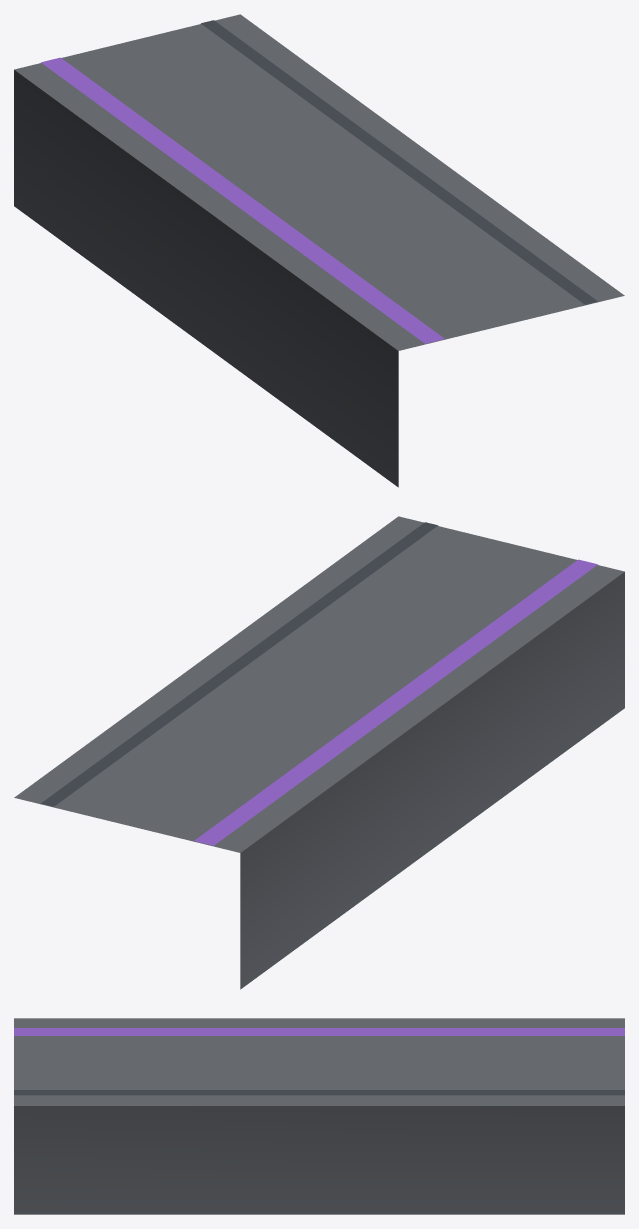
Rendered from junction_sill.glb.
3 renders of one model, top to bottom at view 1: azimuth 30°, elevation 25°; view 2: azimuth 150°, elevation 25°; view 3: azimuth 270°, elevation 25°, orthographic. The views are drawn at different scales.
Visible parts, largest first — view 1: Base; view 2: Base; view 3: Base.
Part boxes in pixels (x1,y1,x2,y2): Base: (14, 14, 624, 487); Base: (14, 516, 624, 989); Base: (14, 1018, 624, 1214).
Size of the model in its own units: 0.34 by 0.197 by 1.
